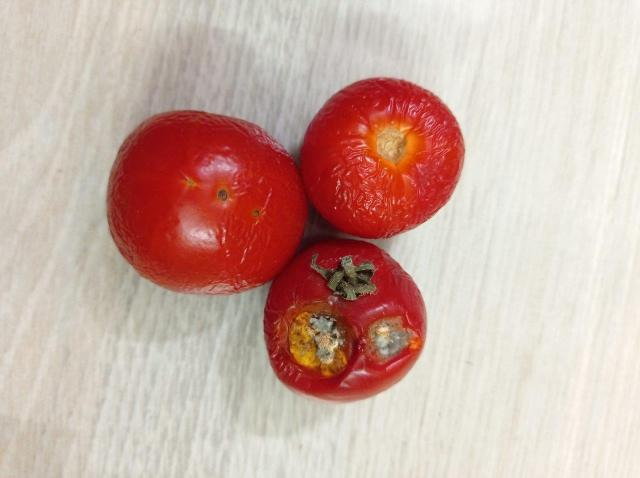defect: (103, 105, 313, 300), (259, 235, 436, 405), (298, 75, 468, 238)
